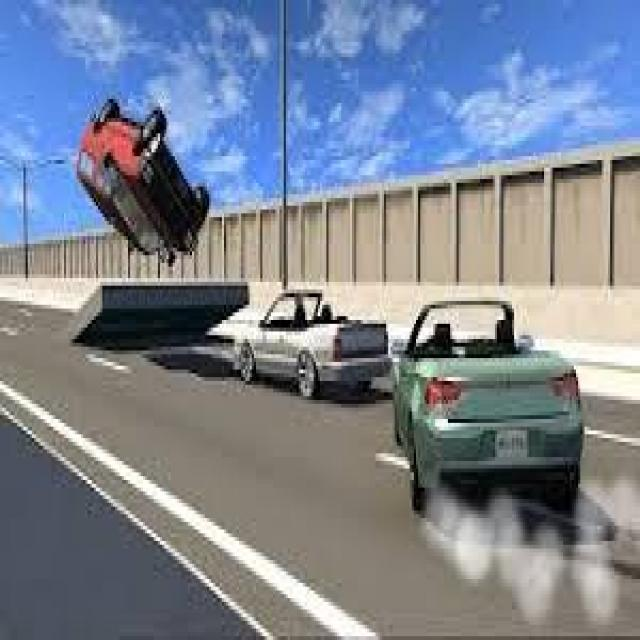accident: (75, 90, 211, 264)
